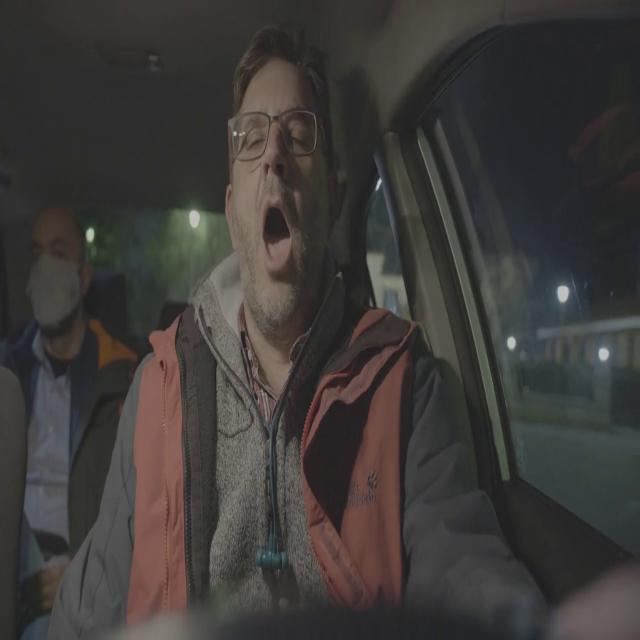open-mouth: (260, 191, 296, 281)
